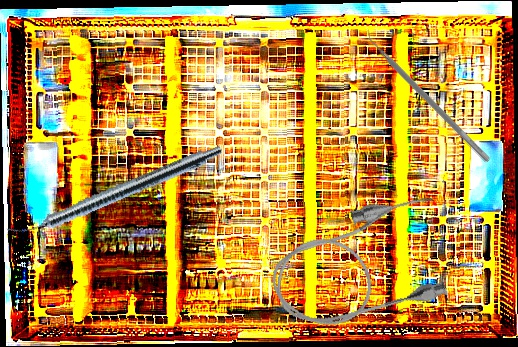Cannula: (257, 186, 462, 344)
Handpiece: (5, 138, 226, 247)
Spatula Surgical: (359, 26, 496, 164)
